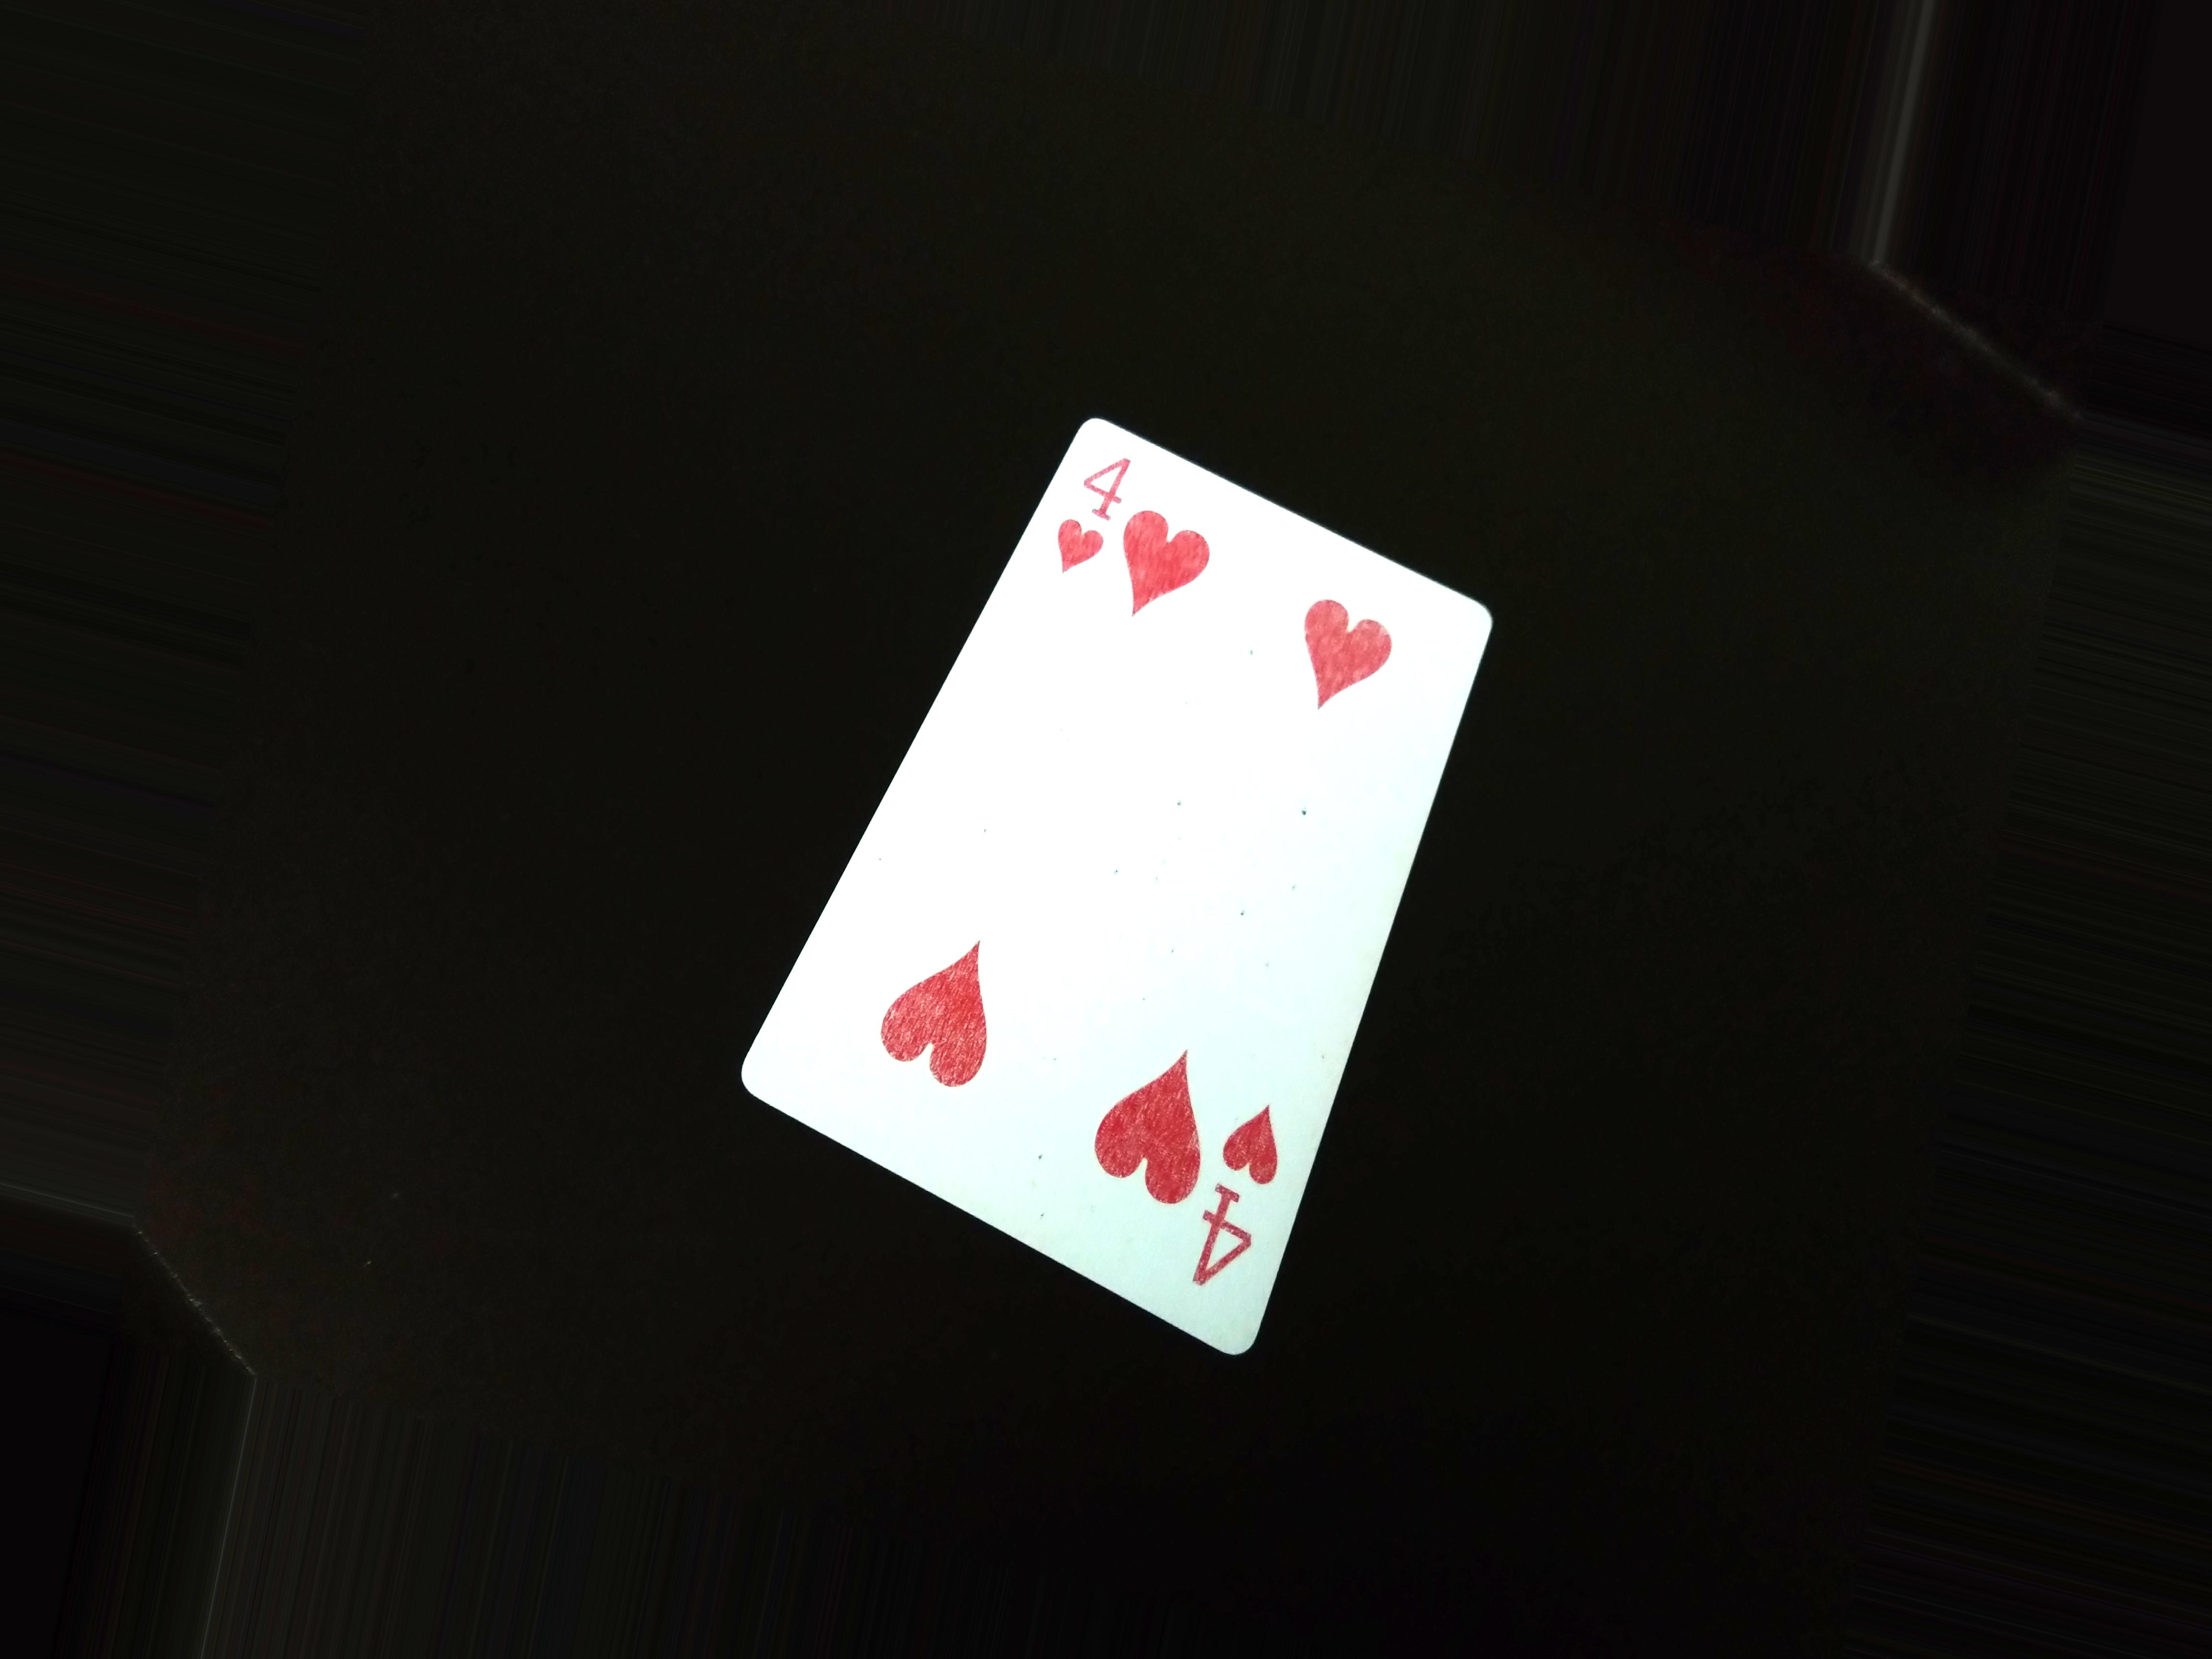4H: (1050, 451, 1129, 587)
